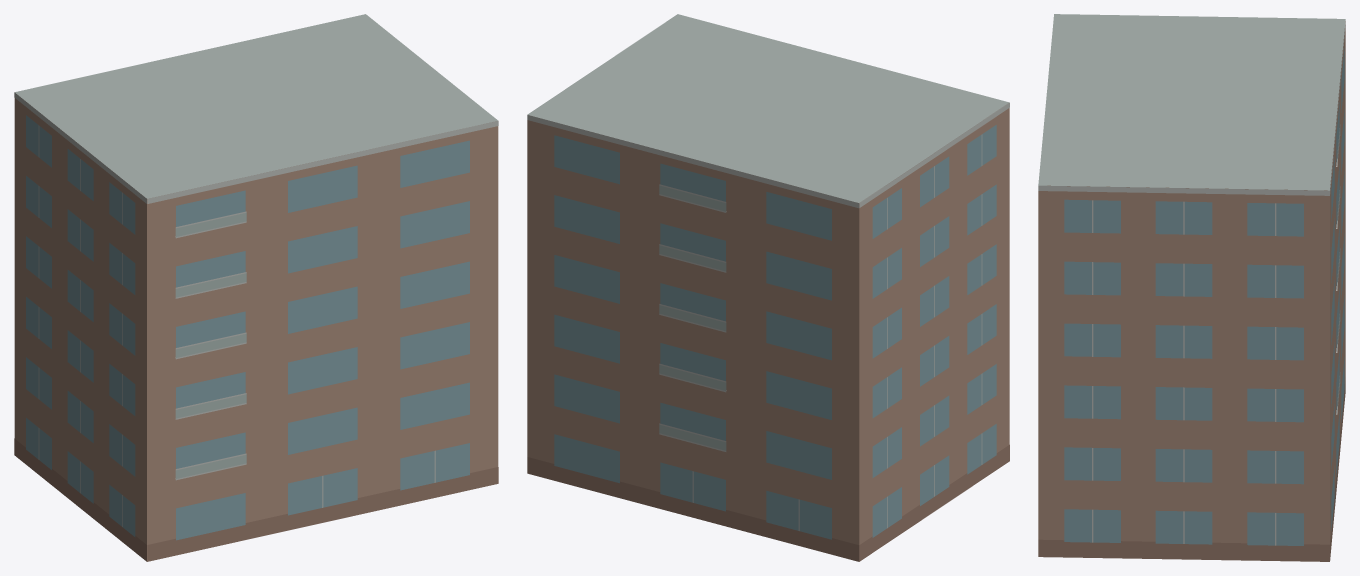
Rendered from survey-upis-32563123.glb.
3 views of the same model, side by side, from view 1: azimuth 30°, elevation 25°; view 2: azimuth 150°, elevation 25°; view 3: azimuth 270°, elevation 25° (orthographic). The views are drawn at different scales.
Visible parts, largest first — view 1: survey-upis-32563123.tmp; view 2: survey-upis-32563123.tmp; view 3: survey-upis-32563123.tmp.
Boxes of the visible parts, <box> form: survey-upis-32563123.tmp: <box>14,14,498,561</box>; survey-upis-32563123.tmp: <box>527,14,1009,561</box>; survey-upis-32563123.tmp: <box>1038,14,1345,561</box>.
Bounding box in the file's own units: 17.08 × 16.75 × 12.58.
